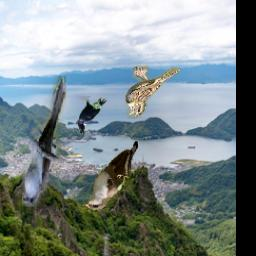Crow: (78, 97, 108, 135)
Cuckoo: (23, 76, 68, 207), (81, 142, 138, 211)
Sparrow: (124, 63, 181, 119)
